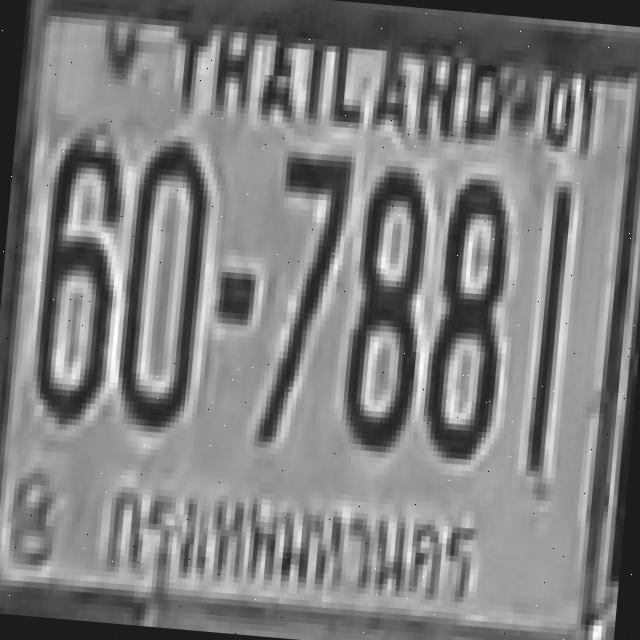0: (112, 135, 214, 426)
6: (29, 128, 126, 418)
7: (252, 144, 350, 446), (260, 145, 352, 418), (269, 145, 352, 322)
8: (334, 163, 428, 448), (420, 170, 512, 455)
Bangkok: (90, 471, 493, 626)
